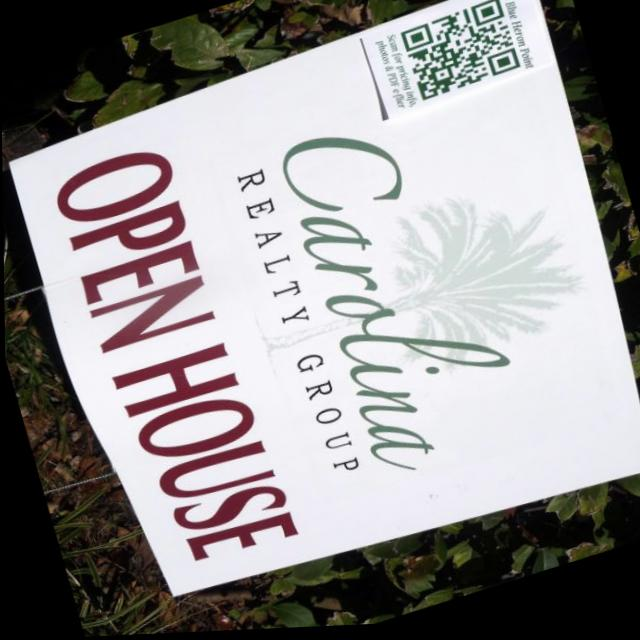qrcode: (399, 2, 520, 107)
